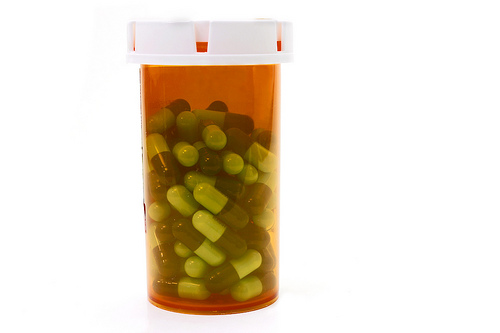pill bottle: (125, 16, 295, 318)
